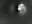person: (18, 3, 27, 18), (10, 3, 16, 16)
